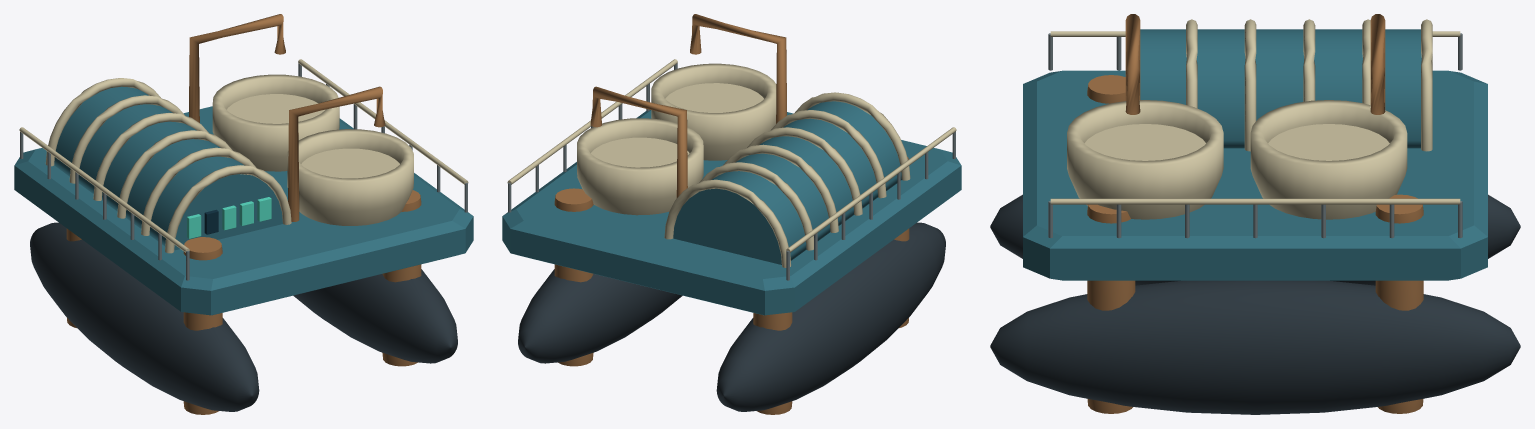
Rendered from thalassa_nursery.glb.
3 views of the same model, side by side, from view 1: azimuth 30°, elevation 25°; view 2: azimuth 150°, elevation 25°; view 3: azimuth 270°, elevation 25° (orthographic). The views are drawn at different scales.
Parts seen in each view (by area): view 1: thalassa_nursery; view 2: thalassa_nursery; view 3: thalassa_nursery.
Boxes of the visible parts, x1,y1,x2,y2 form: thalassa_nursery: [14, 14, 473, 414]; thalassa_nursery: [502, 14, 961, 414]; thalassa_nursery: [990, 14, 1520, 414].
Size of the model in its own units: 17 by 15.18 by 21.66.
